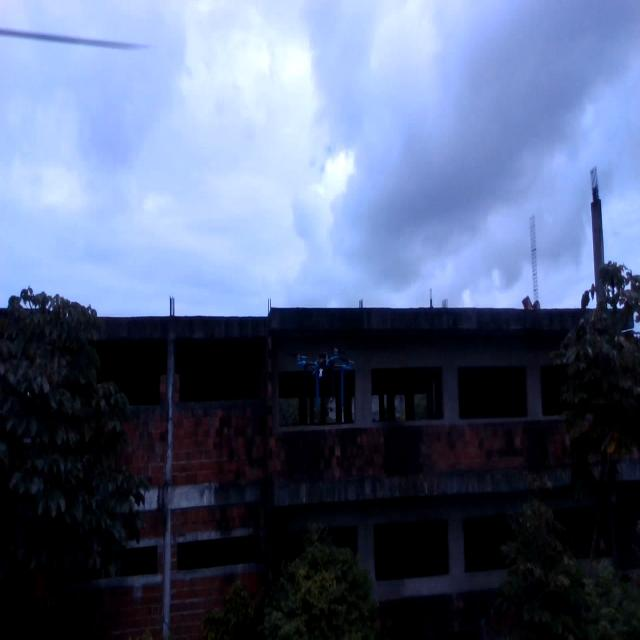-uav-: (291, 341, 362, 410)
